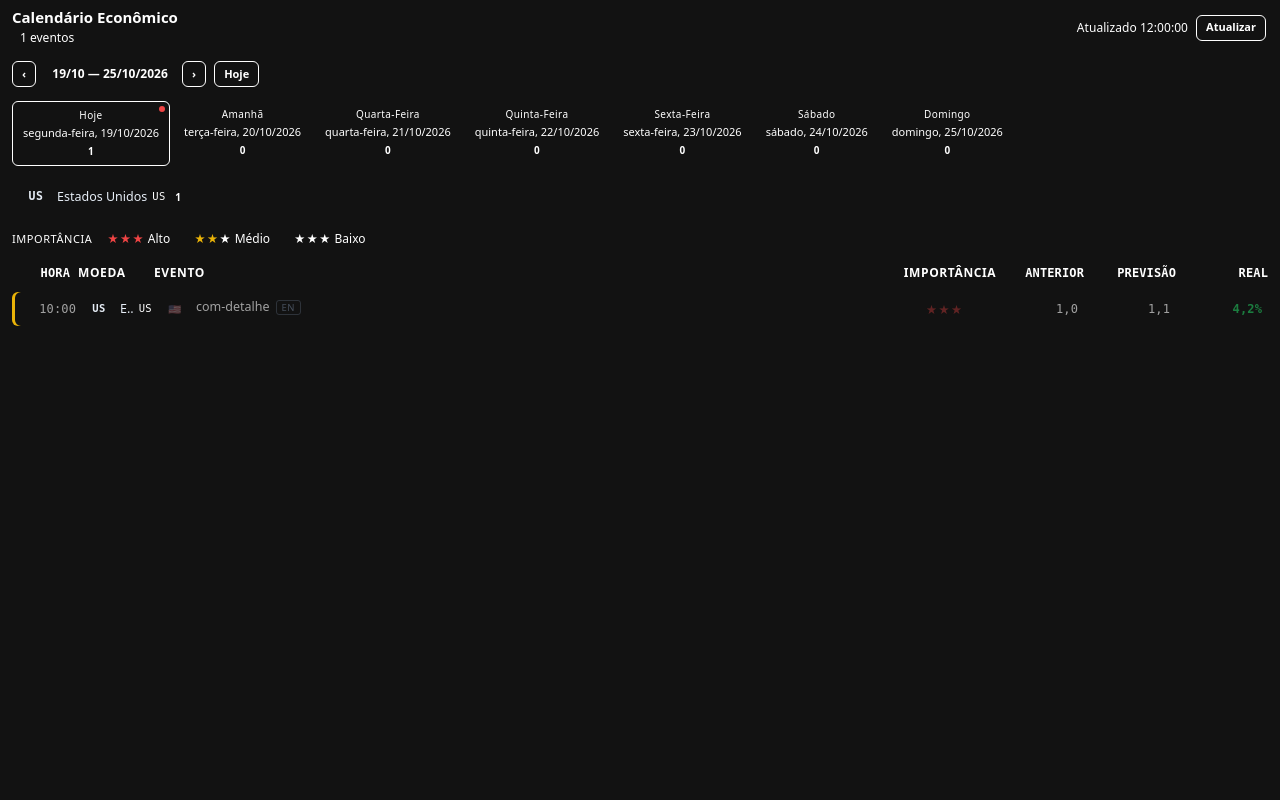
Test: EconomicCalendarTab — padrão MT5 › abre e fecha o detalhe do evento
Click the button with class "cal-row" at (58, 309), box [12, 292, 1268, 326]
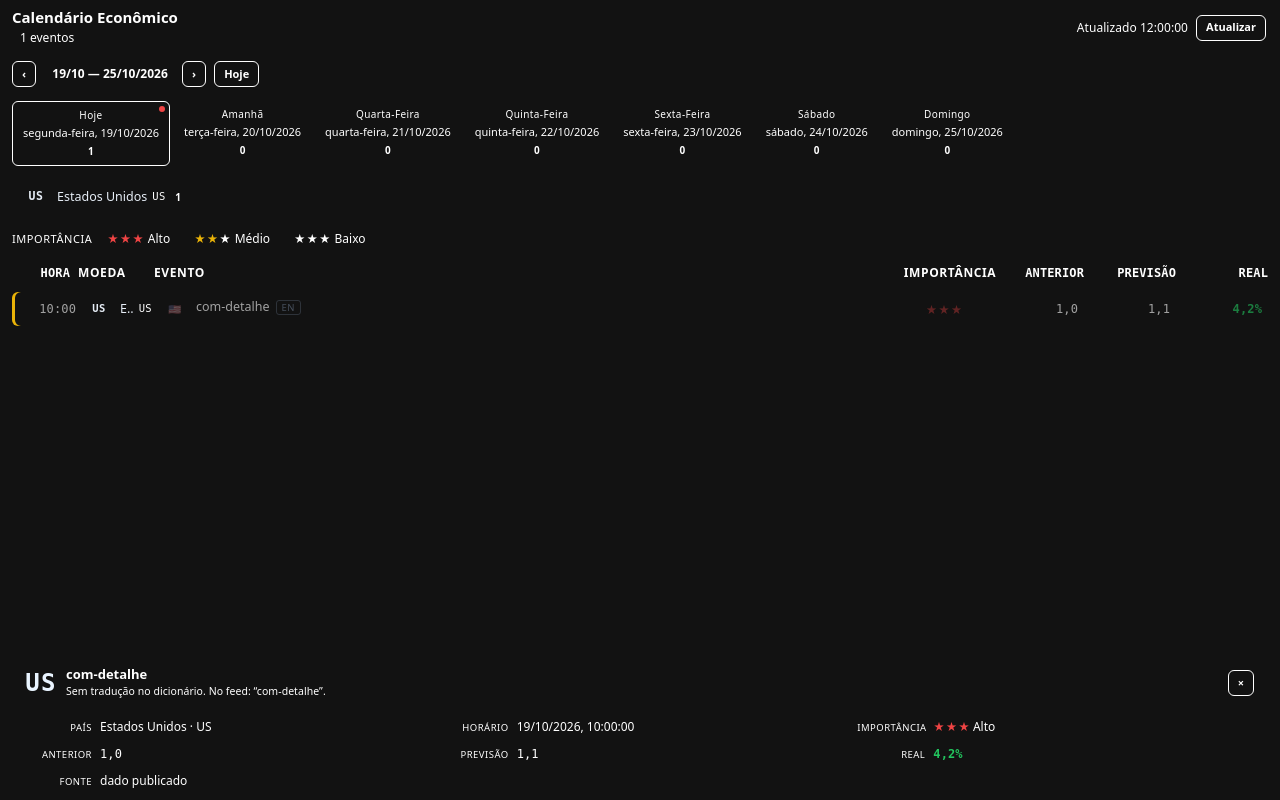
Expected: the element with class "cal-detalhe" is shown, [12, 656, 1268, 799]
Expected: the element with class "cal-detalhe" shows "4,2%", [933, 747, 963, 761]
Expected: the element with class "cal-detalhe" shows "dado publicado", [100, 772, 187, 789]
Click the button named "Fechar detalhe" at (1241, 683), box [1228, 670, 1254, 696]
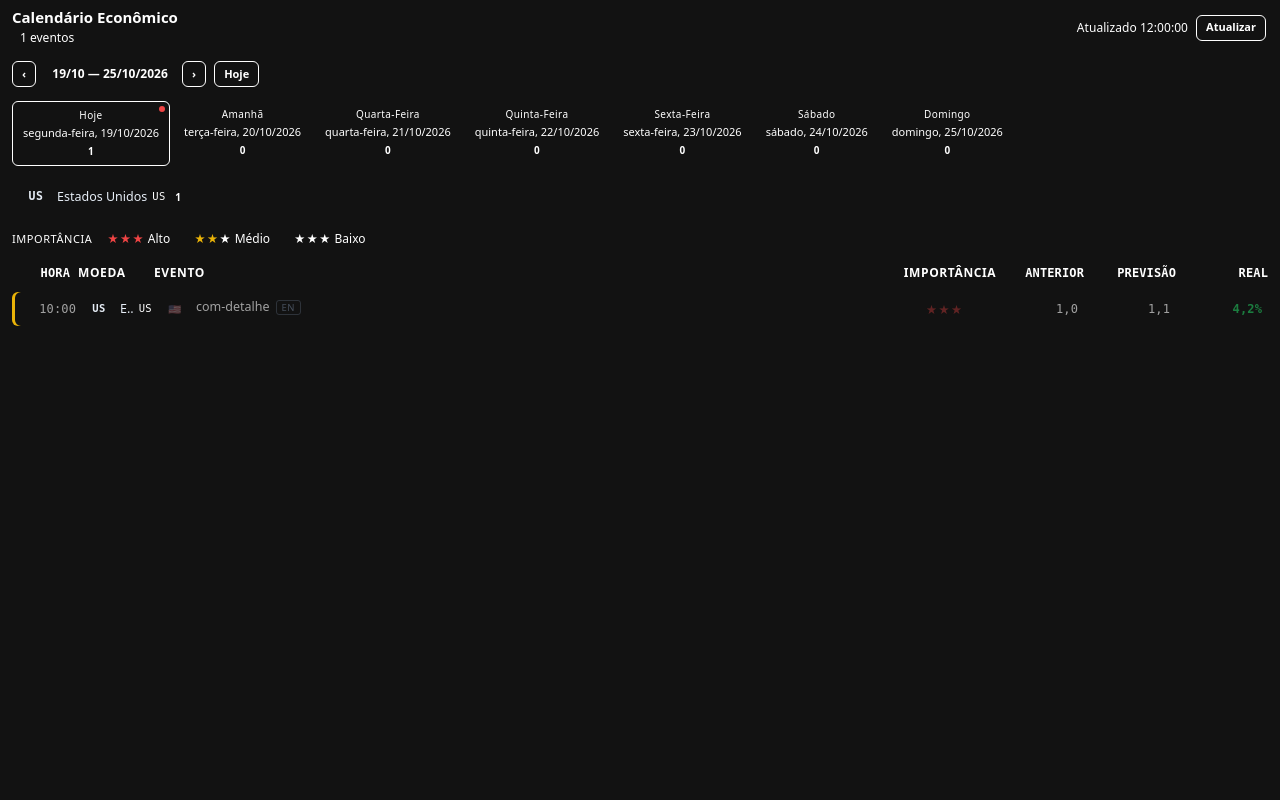
Expected: the element with class "cal-detalhe" is gone
